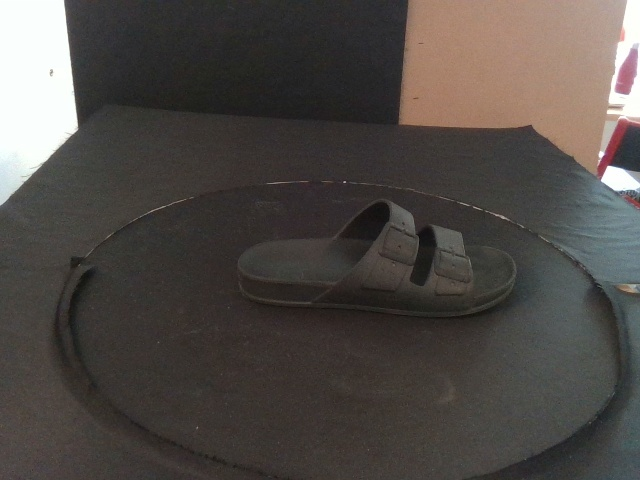shoe: (236, 198, 517, 317)
